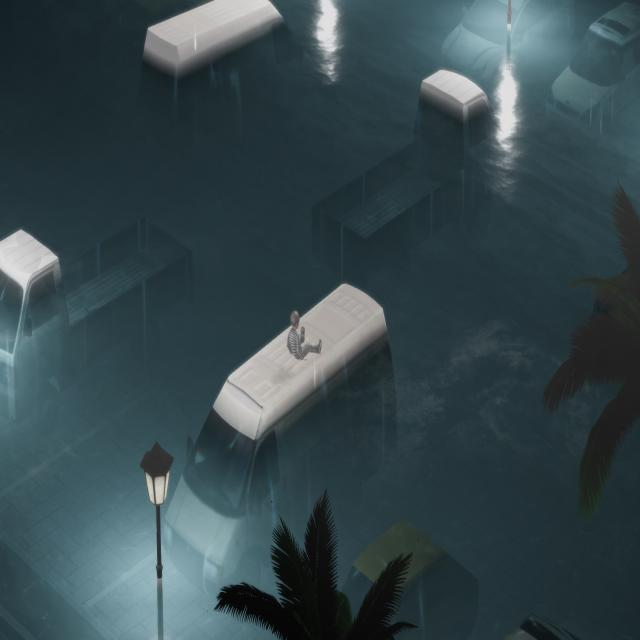Human: (283, 310, 325, 368)
